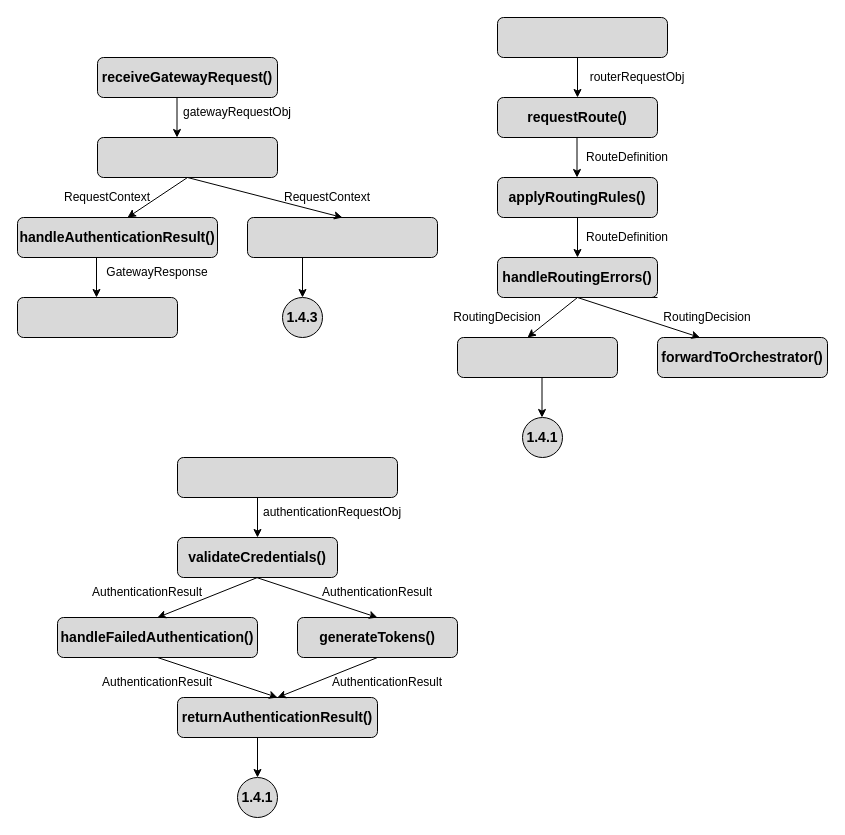
This 845x835 diagram has some shape labels left out. The shapes that lost their labels are listed below. From the top down, each one's box as (x1, y1, x2, y2) in pixels, then its label:
(496, 16, 668, 58): receiveRouterRequest()
(96, 136, 278, 178): parseIncomingRequest()
(246, 216, 438, 258): forwardToRequestRouter()
(16, 296, 178, 338): sendToClient()
(456, 336, 618, 378): returnToGateway()
(176, 456, 398, 498): receiveAuthenticationRequest()
